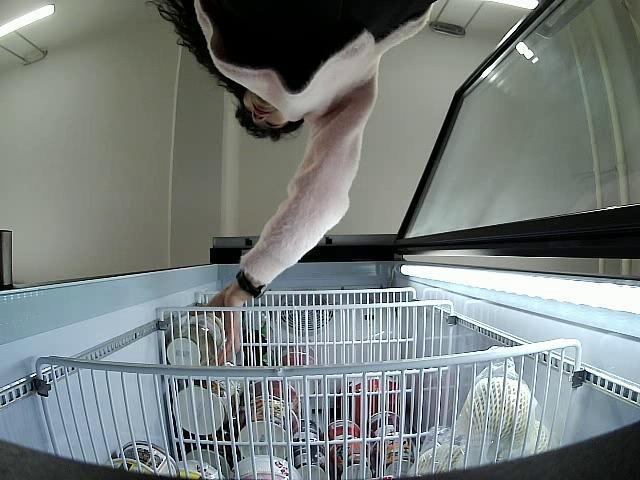04_chapagetti_S: (167, 314, 226, 366)
